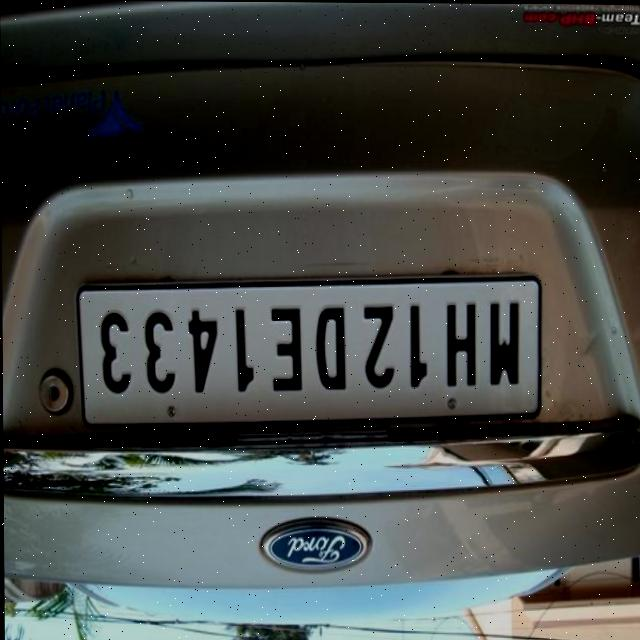plate: (75, 272, 545, 433)
